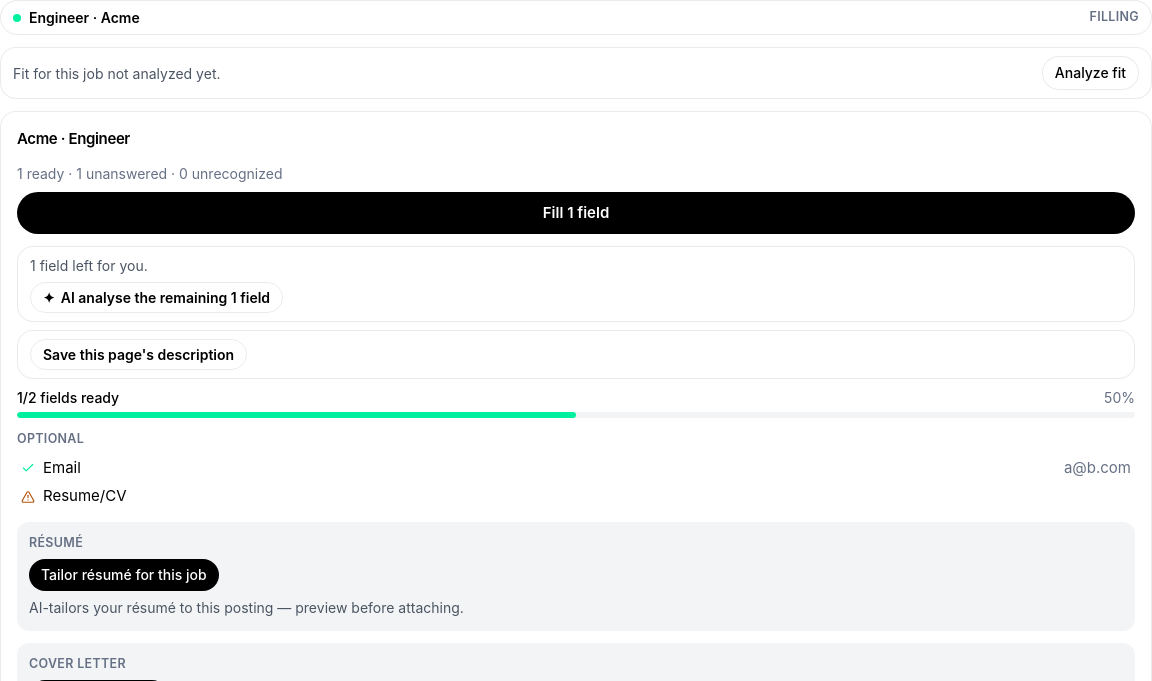
Scenario: FillPanel › in-panel tailor › surfaces a tailor failure without a preview
Click the button "Tailor résumé for this job" at (124, 574), box 29,558 -> 219,590
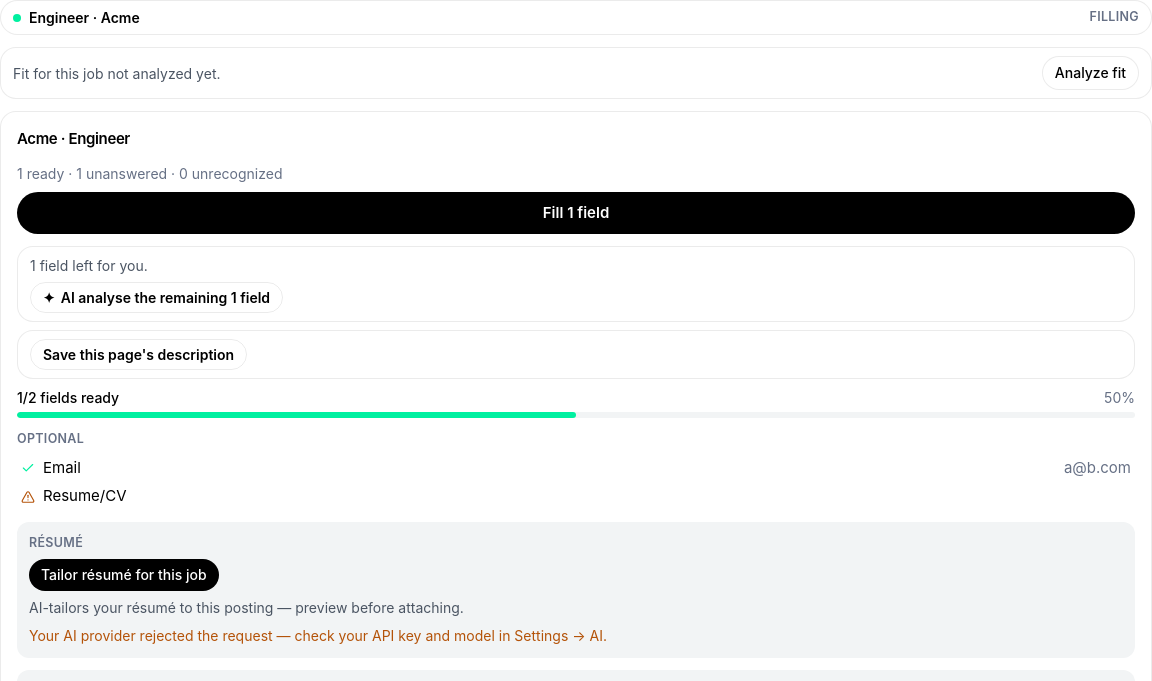
Check: the text "rejected the request" is shown, box 29,627 -> 607,644
